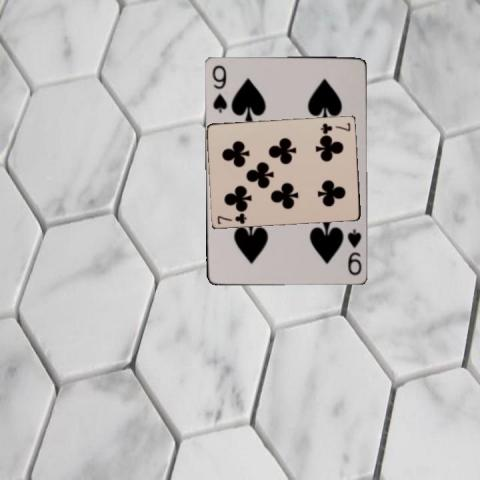7c: (215, 210, 248, 225), (318, 120, 352, 134)
9s: (209, 62, 228, 114), (344, 226, 363, 276)
